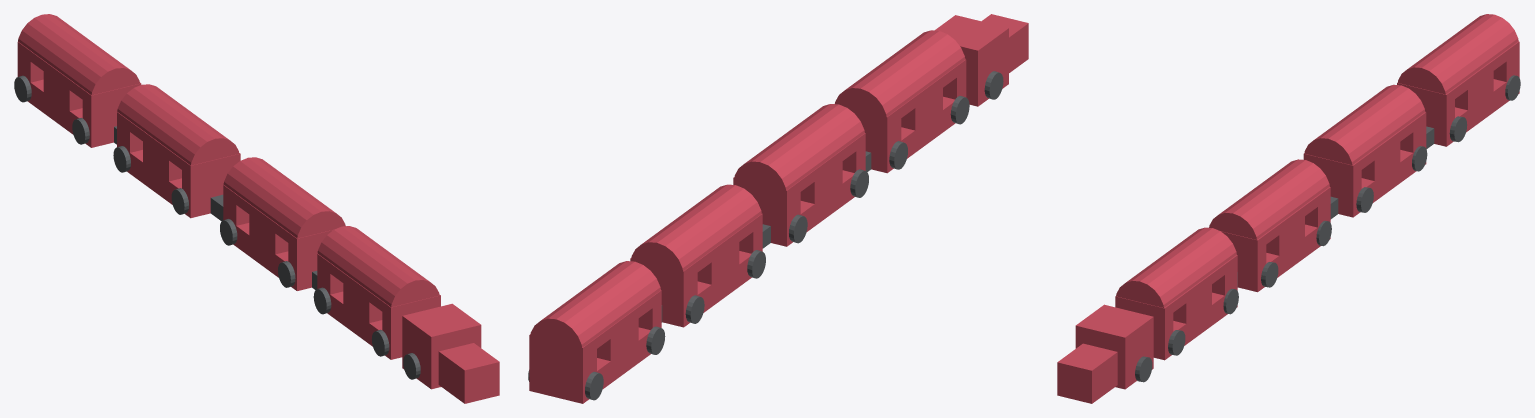
The model's file is Surprising Lappi-Jofo (1).glb.
3 renders of one model, left to right at view 1: azimuth 30°, elevation 25°; view 2: azimuth 150°, elevation 25°; view 3: azimuth 330°, elevation 25°, orthographic. The views are drawn at different scales.
Visible parts, largest first — view 1: Mesh_Mesh_head_geo.001_lambert2SG.001; view 2: Mesh_Mesh_head_geo.001_lambert2SG.001; view 3: Mesh_Mesh_head_geo.001_lambert2SG.001.
Boxes of the visible parts, x1,y1,x2,y2 form: Mesh_Mesh_head_geo.001_lambert2SG.001: (14,14,499,403); Mesh_Mesh_head_geo.001_lambert2SG.001: (528,14,1028,403); Mesh_Mesh_head_geo.001_lambert2SG.001: (1057,14,1520,403).
Bounding box in the file's own units: 28 × 28.17 × 299.
